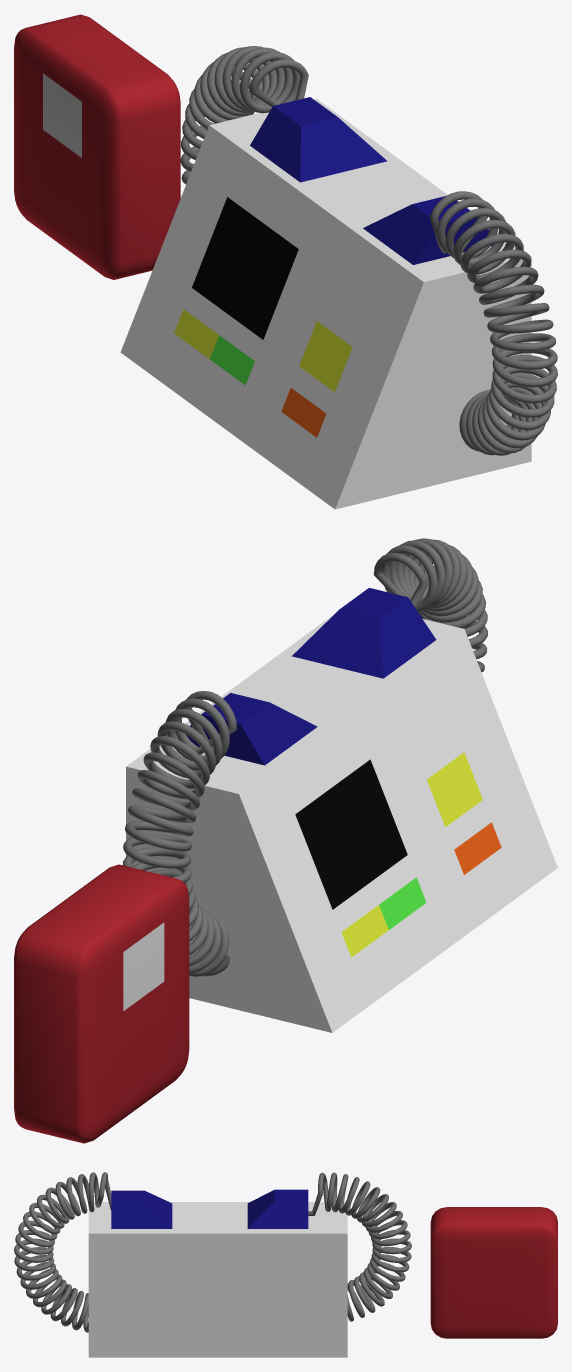
The model's file is Defibrilator.fbx.
The picture shows the model from 3 angles, top to bottom: view 1: azimuth 30°, elevation 25°; view 2: azimuth 150°, elevation 25°; view 3: azimuth 270°, elevation 25°; orthographic projection. The views are drawn at different scales.
Visible parts, largest first — view 1: Cube.003, Spiral.001, Spiral.002; view 2: Cube.003, Spiral.002, Spiral.001; view 3: Cube.003, Spiral.001, Spiral.002.
Boxes of the visible parts, <box> form: Cube.003: <box>14,14,531,509</box>; Spiral.001: <box>430,191,557,455</box>; Spiral.002: <box>180,46,308,184</box>; Cube.003: <box>14,588,557,1143</box>; Spiral.002: <box>123,691,237,976</box>; Spiral.001: <box>373,538,487,672</box>; Cube.003: <box>88,1189,557,1357</box>; Spiral.001: <box>14,1172,111,1332</box>; Spiral.002: <box>308,1172,411,1321</box>.
Size of the model in its own units: 115 by 155 by 455.
